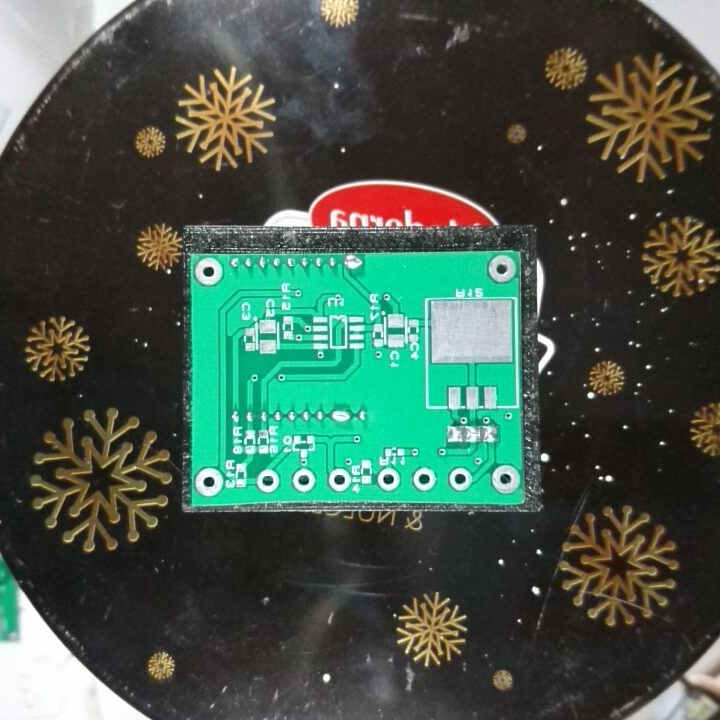F: (489, 462, 522, 495), (192, 255, 224, 289), (194, 464, 225, 499), (486, 253, 518, 285), (411, 464, 437, 495), (446, 465, 474, 493), (254, 468, 281, 496), (290, 466, 318, 493), (374, 466, 402, 492), (327, 466, 352, 493)
P: (341, 252, 367, 272), (329, 405, 353, 426)
